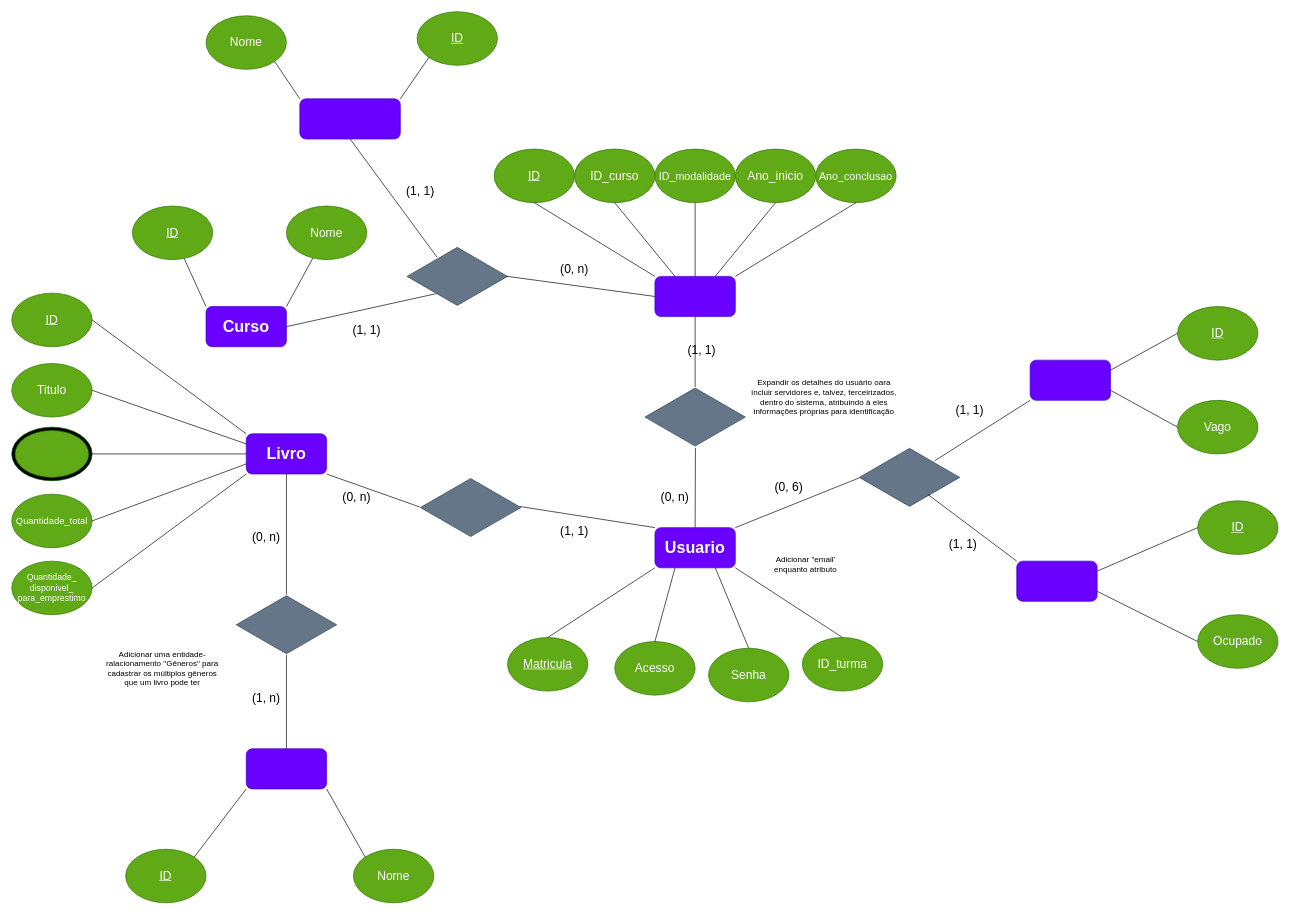
The diagram is 1290 pixels wide and 915 high, and some of its shapes have lost their labels. Each missing label, with the centre of its shape:
Armario: [1070,379]
Genero: [286,768]
ID_Genero: [51,453]
Modalidade: [349,118]
Ocupa: [909,477]
Possui: [457,276]
Retira: [470,507]
Sala: [1056,580]
Tem: [286,624]
Turma: [694,296]
Vinculado: [694,416]
